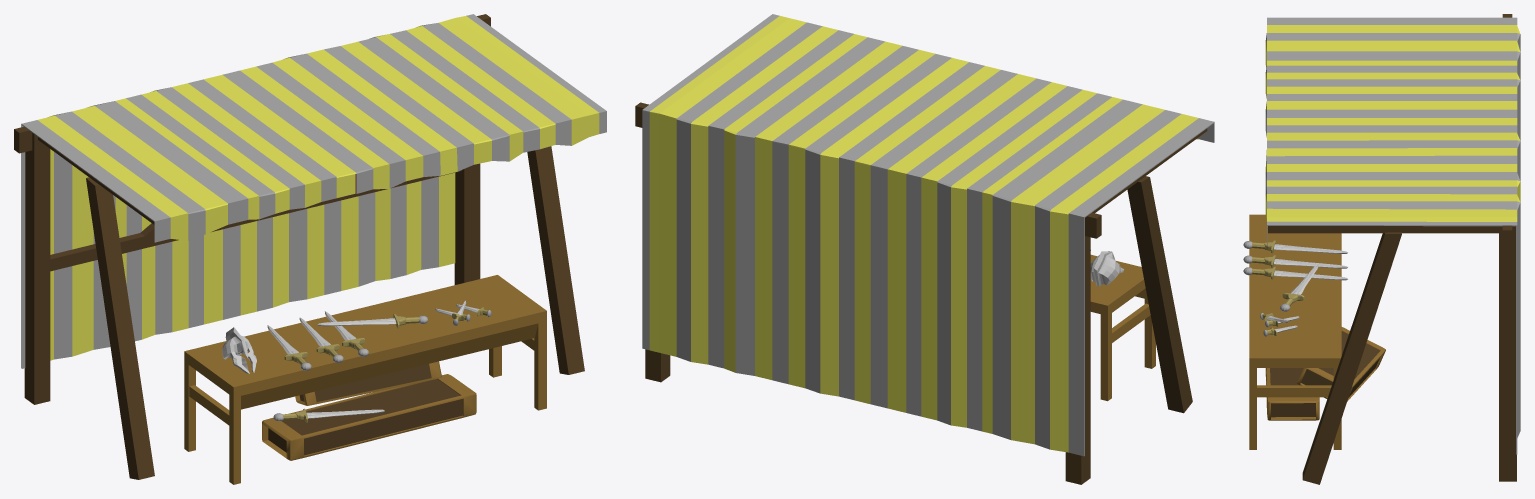
Rendered from LargeSwordStand.fbx.
3 views of the same model, side by side, from view 1: azimuth 30°, elevation 25°; view 2: azimuth 150°, elevation 25°; view 3: azimuth 270°, elevation 25° (orthographic). The views are drawn at different scales.
Visible parts, largest first — view 1: Sword19; view 2: Sword19; view 3: Sword19.
Boxes of the visible parts, x1,y1,x2,y2 form: Sword19: (14, 14, 606, 484); Sword19: (635, 14, 1214, 484); Sword19: (1243, 14, 1520, 484).
Bounding box in the file's own units: 6.52 × 3.68 × 3.53.
